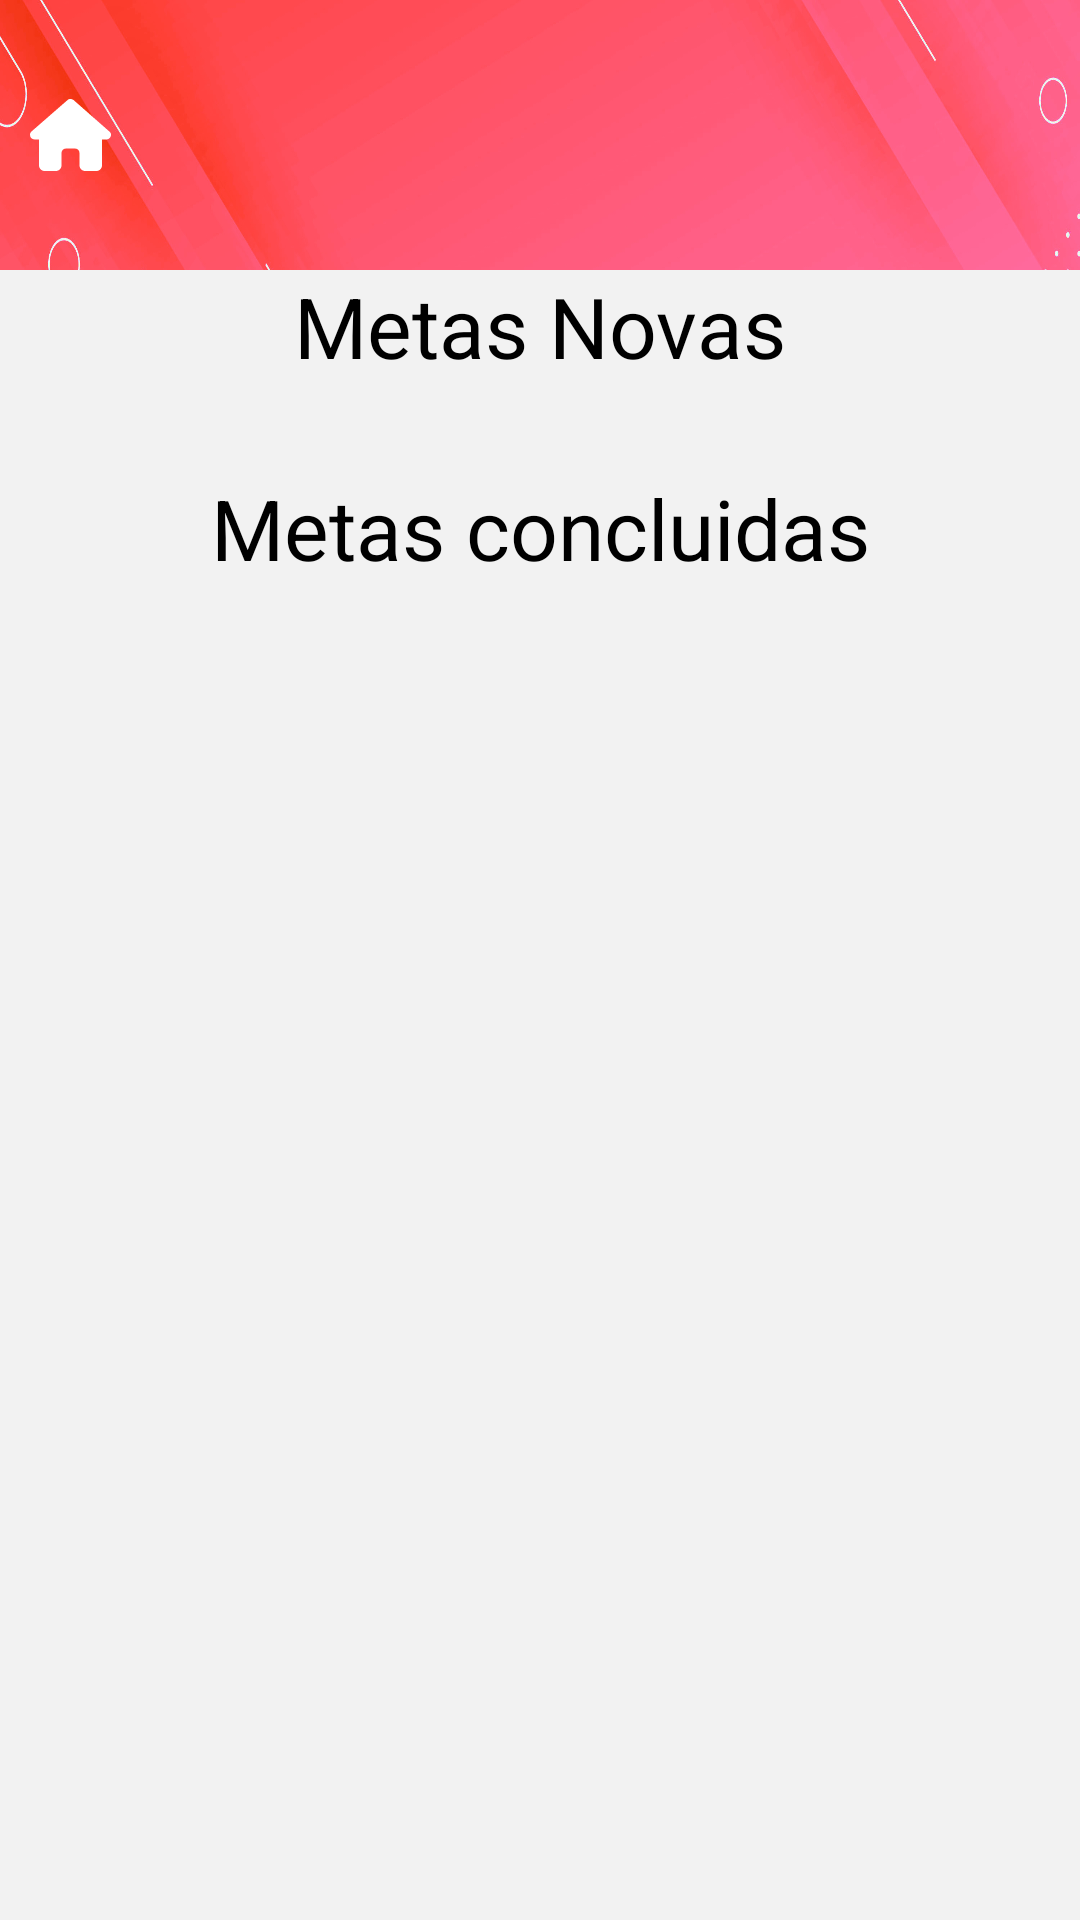

Icon click points for this 1080px x 1920px phone screenshot, format (x,y):
house: (88,135)
